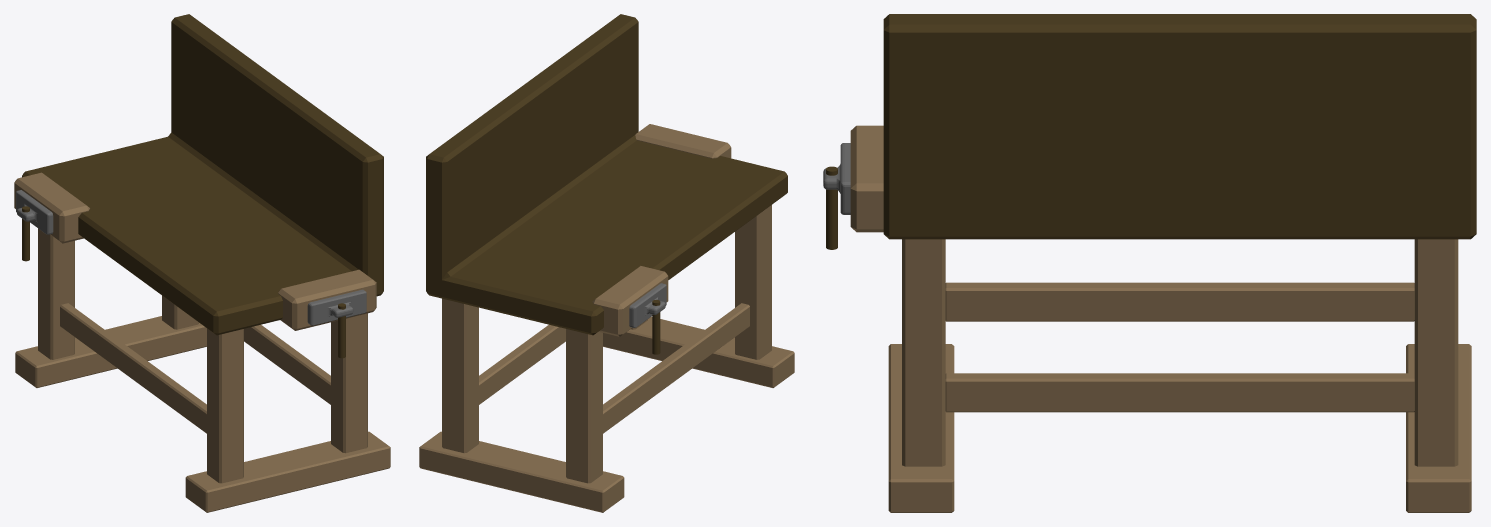
File: table.fbx
3 renders of one model, left to right at view 1: azimuth 30°, elevation 25°; view 2: azimuth 150°, elevation 25°; view 3: azimuth 270°, elevation 25°, orthographic. The views are drawn at different scales.
Visible parts, largest first — view 1: Cube, Cube.001, Cube.003, Cube.002, Cube.007, Cube.004, Cube.006, Cube.005; view 2: Cube, Cube.001, Cube.003, Cube.002, Cube.004, Cube.007, Cube.005; view 3: Cube, Cube.002, Cube.001, Cube.003, Cube.007, Cube.006, Cylinder.001.
Boxes of the visible parts, box(x1,y1,x2,y2) form: Cube: box(22, 14, 383, 335); Cube.001: box(38, 228, 367, 483); Cube.003: box(15, 316, 390, 512); Cube.002: box(60, 303, 330, 433); Cube.007: box(278, 269, 376, 330); Cube.004: box(14, 172, 90, 243); Cube.006: box(307, 289, 366, 325); Cube.005: box(16, 190, 53, 234); Cube: box(426, 14, 787, 335); Cube.001: box(442, 205, 771, 483); Cube.003: box(419, 316, 794, 512); Cube.002: box(479, 303, 749, 433); Cube.004: box(592, 266, 668, 336); Cube.007: box(635, 124, 731, 158); Cube.005: box(629, 283, 666, 327); Cube: box(883, 14, 1476, 239); Cube.002: box(945, 282, 1414, 412); Cube.001: box(902, 239, 1458, 466); Cube.003: box(888, 344, 1471, 512); Cube.007: box(850, 125, 883, 232); Cube.006: box(823, 143, 850, 214); Cylinder.001: box(826, 166, 837, 249).
Size of the model in its own units: 312 by 450 by 552.
